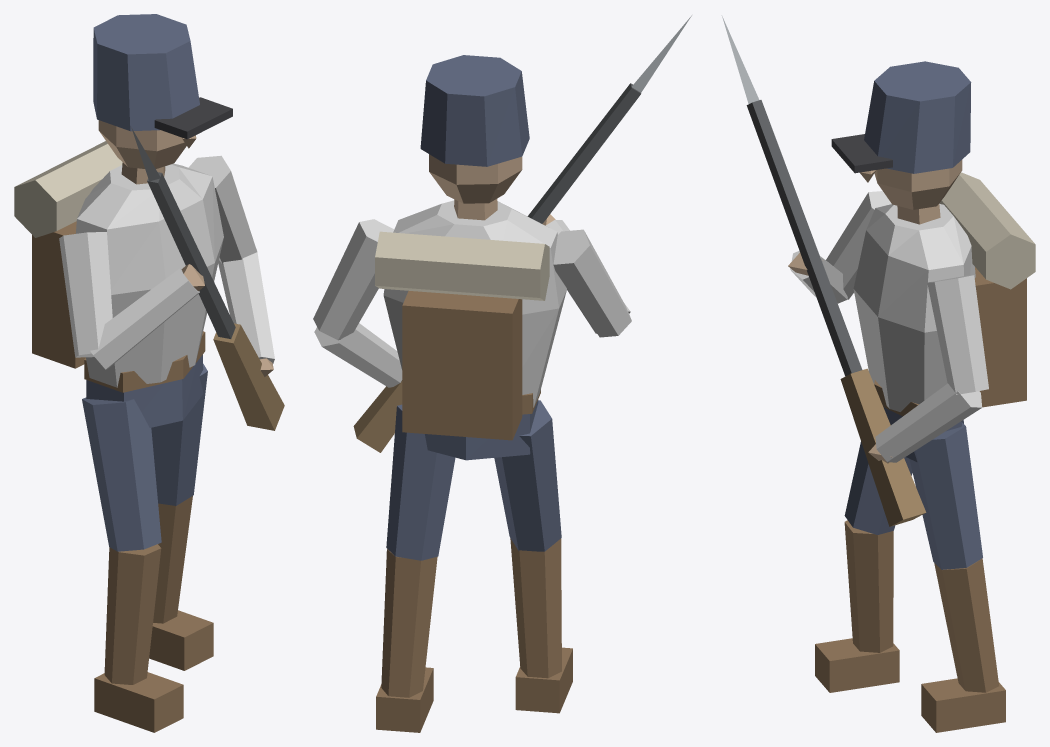
File: rifleman.glb
3 views of the same model, side by side, from view 1: azimuth 30°, elevation 25°; view 2: azimuth 150°, elevation 25°; view 3: azimuth 270°, elevation 25° (orthographic). The views are drawn at different scales.
Visible parts, largest first — view 1: LOD0; view 2: LOD0; view 3: LOD0.
Part boxes in pixels (box(x1,y1,x2,y2)): LOD0: box(14, 14, 284, 732); LOD0: box(313, 15, 691, 732); LOD0: box(721, 15, 1035, 732).
Size of what is drawn, in the model's own units: 0.4122 by 1.02 by 0.4645.
